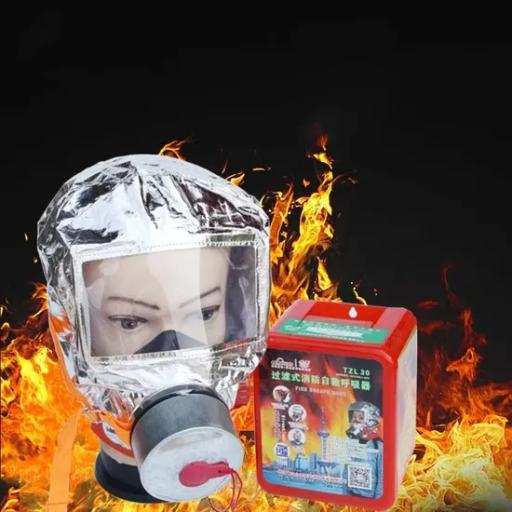mask: (40, 165, 273, 506)
